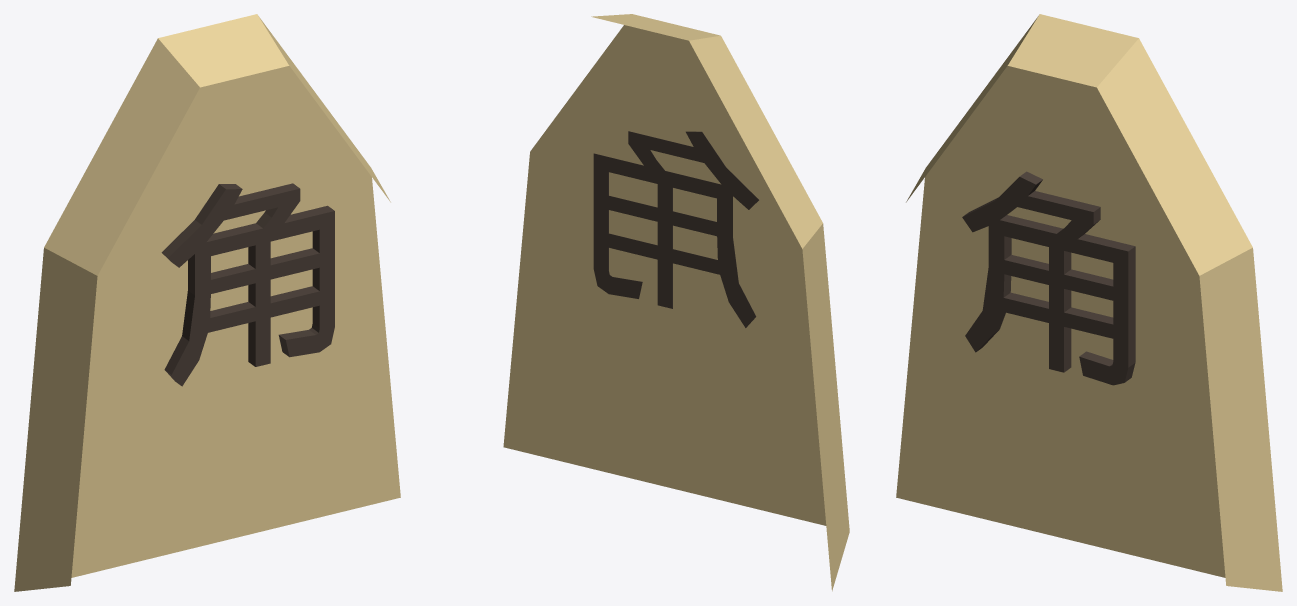
File: koma-kaku.glb
The picture shows the model from 3 angles, left to right: view 1: azimuth 30°, elevation 25°; view 2: azimuth 150°, elevation 25°; view 3: azimuth 330°, elevation 25°; orthographic projection.
Visible parts, largest first — view 1: world; view 2: world; view 3: world.
Boxes of the visible parts, <box> form: world: <box>14,14,400,591</box>; world: <box>503,14,849,591</box>; world: <box>896,14,1282,591</box>.
Size of the model in its own units: 1.56 by 2 by 0.309.
